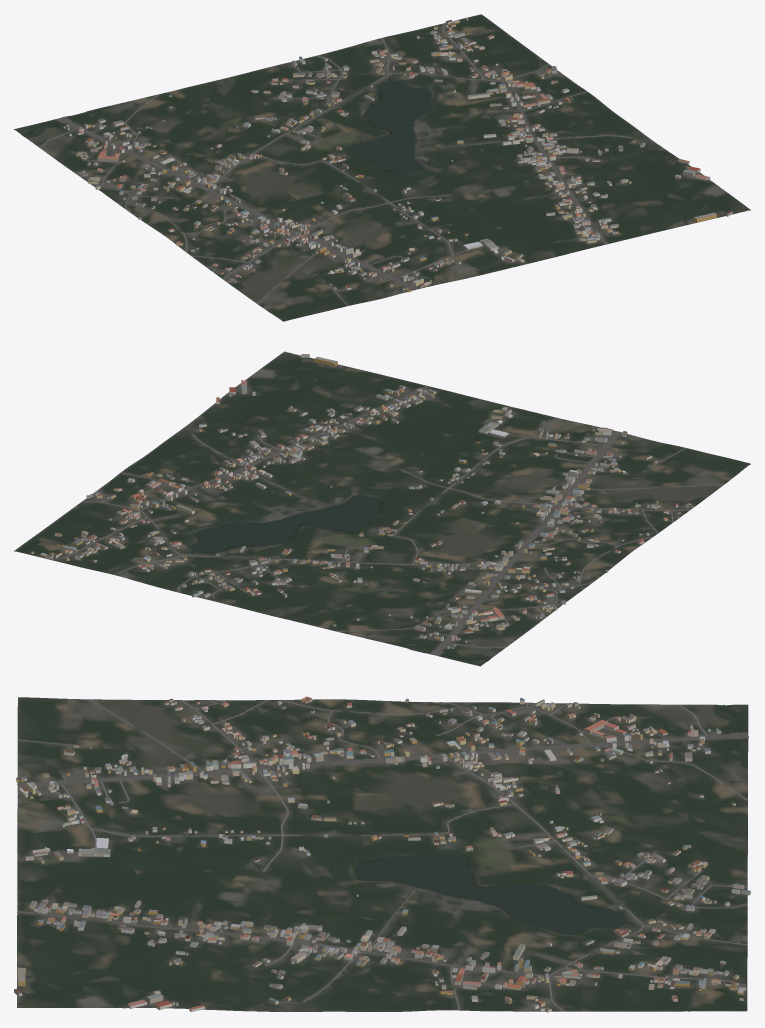
3 renders of one model, top to bottom at view 1: azimuth 30°, elevation 25°; view 2: azimuth 150°, elevation 25°; view 3: azimuth 270°, elevation 25°, orthographic. The views are drawn at different scales.
Visible parts, largest first — view 1: ground, buildings, roads, water; view 2: ground, buildings, roads, water; view 3: ground, buildings, water, roads.
Part boxes in pixels (x1,y1,x2,y2): ground: (14, 14, 750, 321); buildings: (63, 17, 732, 292); roads: (39, 23, 695, 305); water: (23, 81, 432, 174); ground: (14, 351, 750, 666); buildings: (31, 354, 693, 648); roads: (50, 364, 724, 655); water: (191, 495, 489, 659); ground: (17, 697, 748, 1011); buildings: (14, 696, 750, 1012); water: (356, 705, 747, 933); roads: (17, 699, 748, 1011).
Size of the model in its own units: 1413 by 28.1 by 1414.
